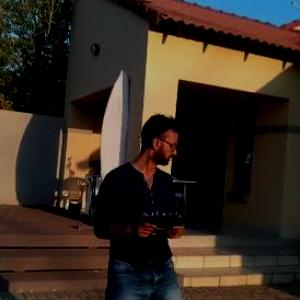follow: (93, 114, 187, 299)
